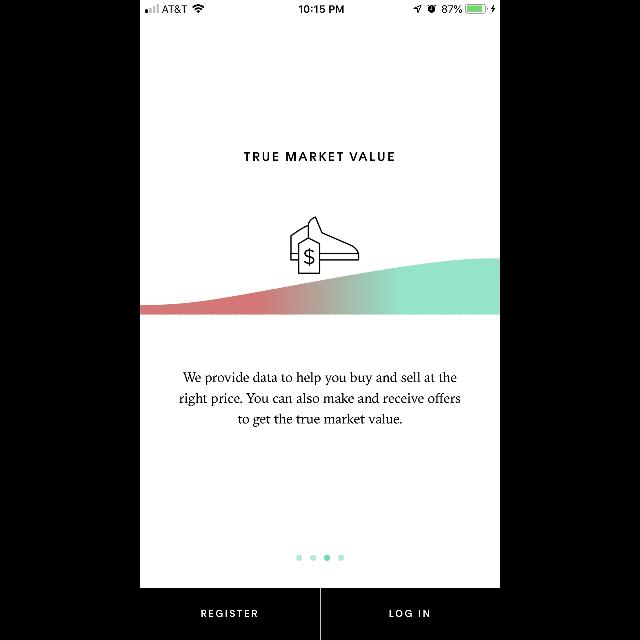image: (290, 216, 360, 274)
pageindicator: (296, 555, 344, 561)
text: (180, 372, 460, 426), (244, 152, 394, 162)
textbutton: (140, 588, 320, 640), (320, 588, 500, 640)
uppertaskbar: (140, 0, 500, 14)
